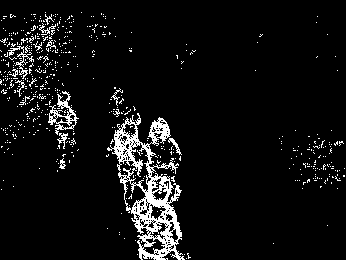person: (134, 173, 184, 260), (106, 120, 144, 220), (142, 116, 184, 202), (49, 91, 78, 170)
